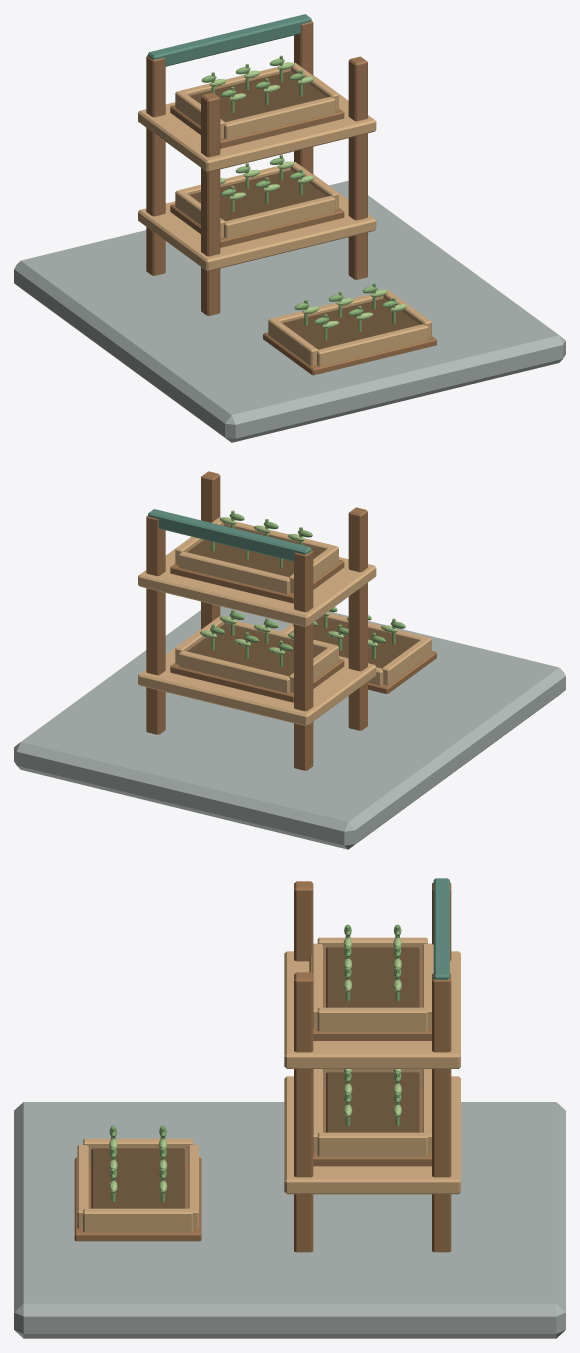
The picture shows the model from 3 angles, top to bottom: view 1: azimuth 30°, elevation 25°; view 2: azimuth 150°, elevation 25°; view 3: azimuth 270°, elevation 25°; orthographic projection. The views are drawn at different scales.
Visible parts, largest first — view 1: village-nursery-corner-01; view 2: village-nursery-corner-01; view 3: village-nursery-corner-01.
Part boxes in pixels (<box>): village-nursery-corner-01: <box>14,14,565,442</box>; village-nursery-corner-01: <box>14,471,565,849</box>; village-nursery-corner-01: <box>14,878,565,1338</box>.
Bounding box in the file's own units: 1.8 × 1.25 × 2.
